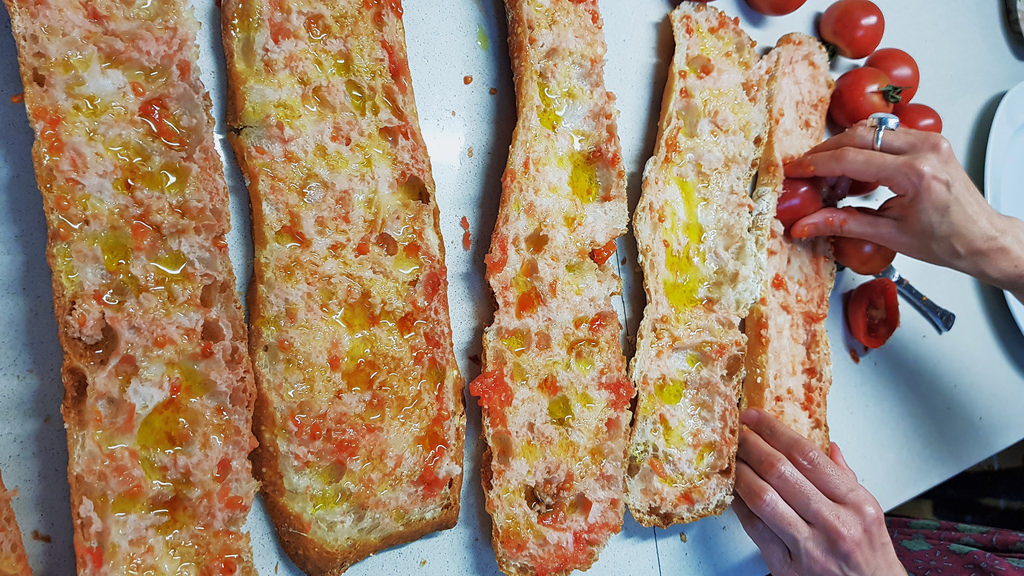slice of bread: (2, 1, 269, 576), (224, 1, 461, 551), (484, 1, 627, 575), (656, 9, 753, 533), (756, 37, 846, 466)
